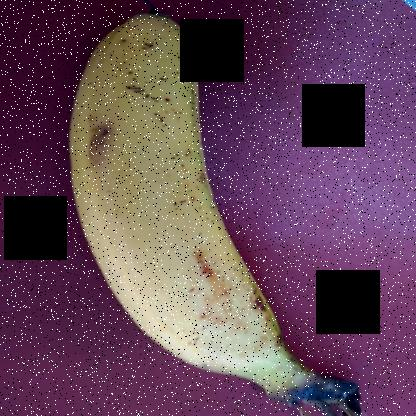ripe: (1, 1, 325, 378)
